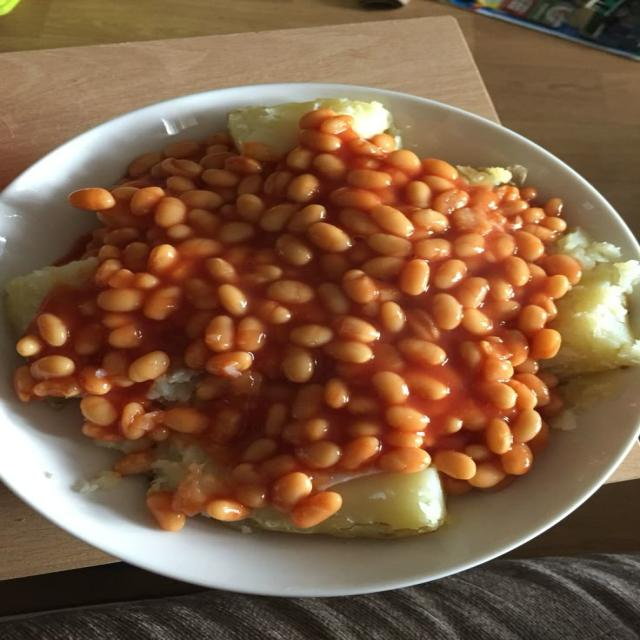beans: (292, 492, 342, 528), (147, 492, 186, 531), (273, 472, 312, 510), (339, 437, 380, 470), (371, 206, 414, 237), (128, 351, 170, 382), (143, 286, 181, 320), (307, 223, 351, 252), (378, 448, 431, 472), (281, 347, 315, 383), (342, 270, 378, 304), (206, 352, 253, 378), (434, 450, 476, 479), (339, 208, 380, 237), (208, 408, 241, 444), (406, 373, 450, 400), (297, 441, 341, 468), (275, 234, 313, 265), (80, 395, 118, 426), (163, 408, 208, 434), (373, 371, 408, 404), (514, 373, 549, 406), (335, 316, 379, 342), (287, 204, 326, 233), (267, 280, 314, 304), (324, 340, 373, 363), (543, 255, 581, 284), (386, 406, 428, 432), (68, 188, 115, 211), (367, 233, 412, 257), (450, 208, 491, 234), (500, 443, 533, 475), (407, 309, 440, 341), (292, 385, 323, 419), (455, 277, 489, 308), (432, 294, 462, 329), (400, 259, 429, 295), (205, 316, 234, 352), (30, 356, 75, 379), (97, 288, 142, 311), (37, 313, 68, 346), (318, 283, 351, 314), (433, 259, 466, 290), (236, 317, 266, 351), (347, 139, 382, 168), (130, 187, 165, 216), (468, 461, 505, 488), (480, 382, 517, 409), (290, 324, 333, 347), (34, 377, 81, 398), (206, 499, 250, 521), (154, 197, 186, 227), (218, 284, 248, 316), (512, 410, 541, 443), (121, 242, 150, 275), (362, 257, 405, 279), (300, 129, 341, 152), (120, 403, 146, 439), (386, 150, 422, 176), (502, 330, 528, 366), (433, 189, 469, 215), (127, 152, 164, 177), (410, 209, 448, 233), (514, 231, 544, 261), (530, 329, 560, 359), (177, 238, 222, 258), (518, 305, 548, 335), (147, 244, 178, 273), (260, 455, 299, 478), (114, 452, 153, 475), (287, 174, 319, 202), (79, 367, 112, 394), (180, 190, 222, 211), (160, 158, 202, 179), (486, 419, 511, 454), (508, 380, 537, 410), (241, 438, 277, 462), (313, 154, 346, 180), (255, 301, 292, 324), (236, 193, 265, 222), (421, 159, 459, 181), (347, 170, 391, 189), (218, 221, 254, 244), (320, 254, 350, 281), (380, 302, 406, 333), (107, 325, 142, 348), (461, 309, 493, 334), (453, 233, 485, 258), (504, 256, 530, 286), (242, 143, 282, 162), (94, 259, 122, 286), (206, 258, 237, 282), (82, 422, 121, 441), (324, 379, 349, 408), (225, 156, 263, 175), (201, 169, 239, 188), (200, 148, 236, 168), (236, 484, 266, 508), (482, 358, 513, 381), (196, 377, 227, 400), (527, 422, 549, 454), (406, 181, 431, 209), (249, 264, 283, 284), (384, 431, 424, 448), (287, 147, 315, 171), (459, 341, 483, 369), (300, 418, 329, 441), (232, 463, 263, 484), (488, 276, 514, 301), (347, 420, 383, 438), (544, 275, 570, 299), (347, 396, 379, 415), (167, 176, 196, 195), (464, 444, 492, 463), (133, 272, 159, 290), (371, 134, 396, 151), (112, 186, 138, 202), (521, 208, 545, 225), (540, 217, 566, 232), (441, 417, 463, 434), (544, 198, 563, 216)
